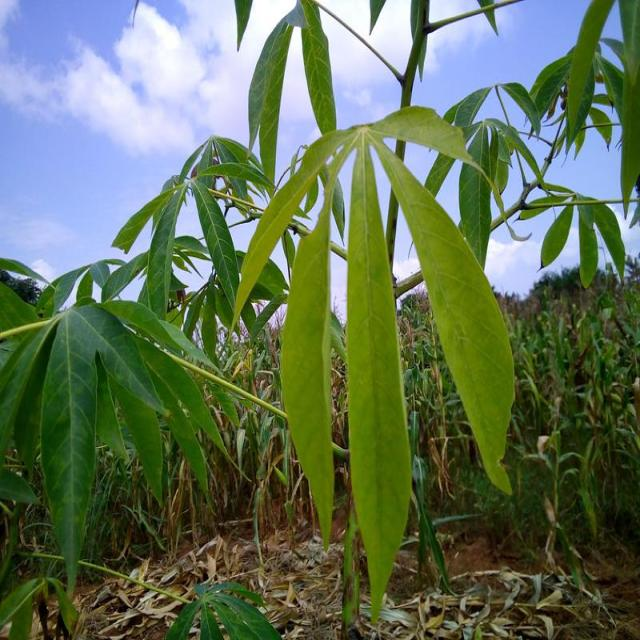cassava leaf: (231, 103, 516, 623), (370, 133, 517, 496), (346, 132, 414, 623), (280, 160, 340, 551)
